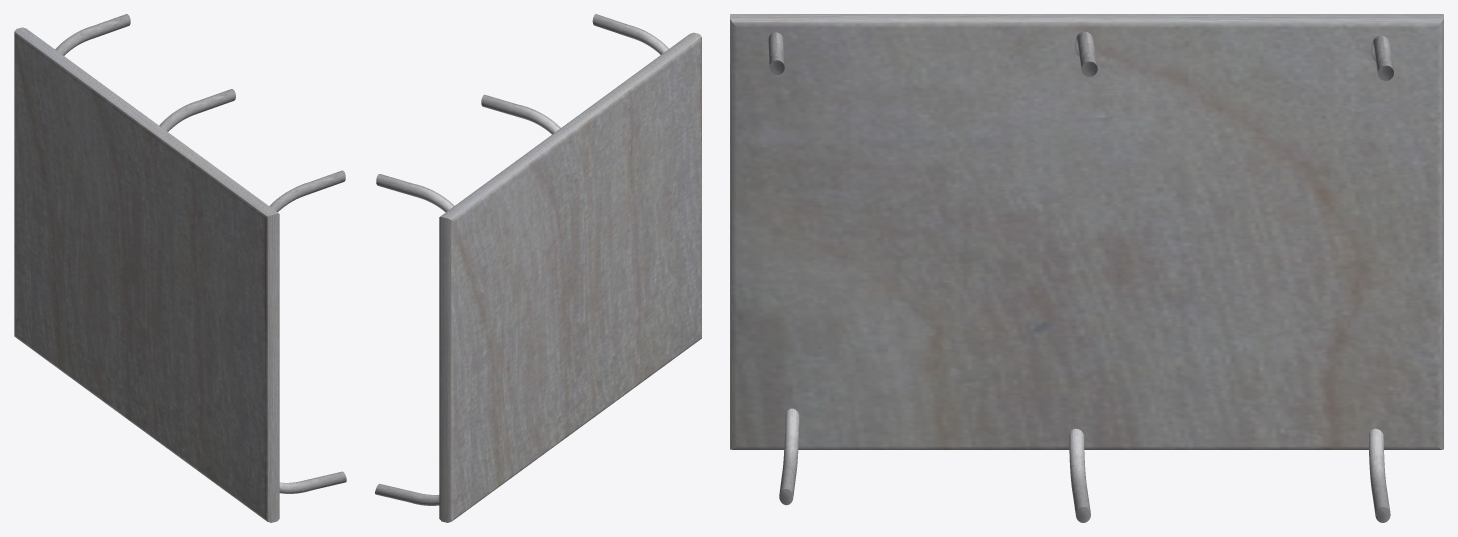
File: Table.fbx
The picture shows the model from 3 angles, left to right: view 1: azimuth 30°, elevation 25°; view 2: azimuth 150°, elevation 25°; view 3: azimuth 270°, elevation 25°; orthographic projection. The views are drawn at different scales.
Visible parts, largest first — view 1: TableBase, Chairleg5, Chairleg1, Chairleg4, Chairleg3; view 2: TableBase, Chairleg5, Chairleg1, Chairleg4, Chairleg2; view 3: TableBase, Chairleg6, Chairleg2, Chairleg3.
Boxes of the visible parts, x1,y1,x2,y2 form: TableBase: [14, 27, 279, 522]; Chairleg5: [159, 89, 235, 131]; Chairleg1: [55, 14, 130, 55]; Chairleg4: [269, 170, 345, 212]; Chairleg3: [279, 471, 346, 493]; TableBase: [439, 32, 701, 522]; Chairleg5: [481, 94, 560, 134]; Chairleg1: [376, 174, 454, 212]; Chairleg4: [592, 14, 668, 54]; Chairleg2: [375, 483, 439, 505]; TableBase: [730, 14, 1443, 449]; Chairleg6: [1069, 428, 1090, 522]; Chairleg2: [1368, 428, 1390, 522]; Chairleg3: [779, 408, 799, 505].
Bounding box in the file's own units: 66.76 × 214 × 300.
2 materials, 2 textured.
